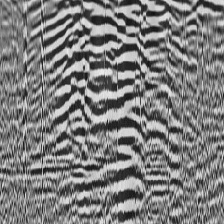cavities: (38, 2, 182, 224)
